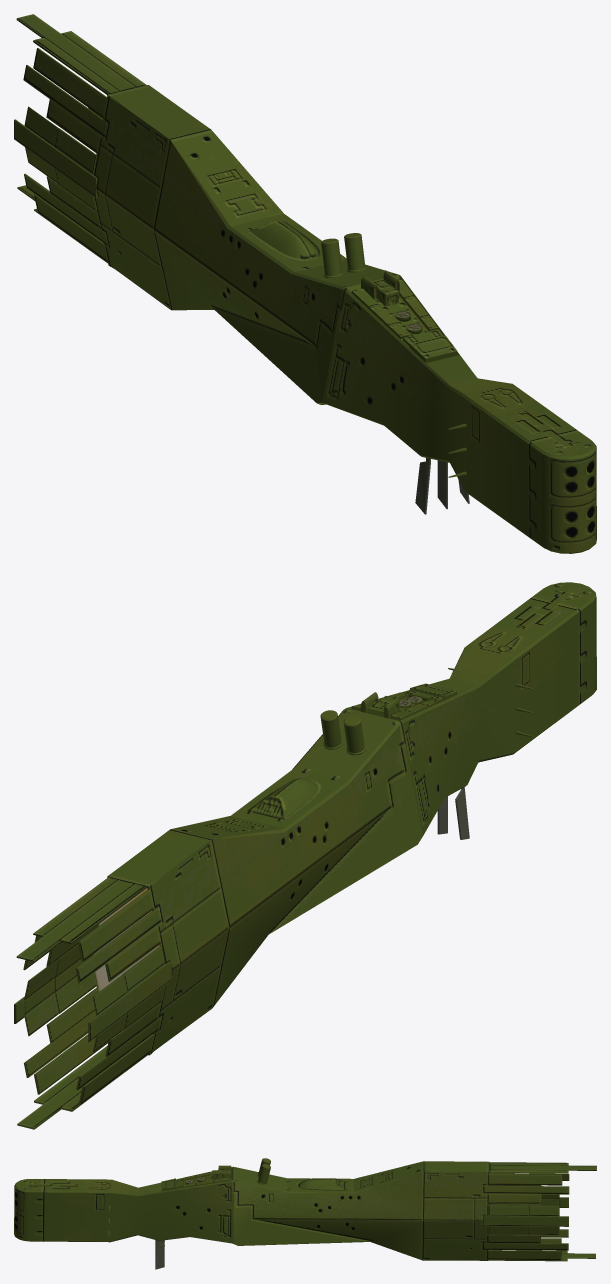
The model's file is fpa_battleship.obj.
The picture shows the model from 3 angles, top to bottom: view 1: azimuth 30°, elevation 25°; view 2: azimuth 150°, elevation 25°; view 3: azimuth 270°, elevation 25°; orthographic projection. The views are drawn at different scales.
Visible parts, largest first — view 1: fpa_battleship; view 2: fpa_battleship; view 3: fpa_battleship.
Part boxes in pixels (box(x1,y1,x2,y2)): fpa_battleship: box(14, 14, 596, 553); fpa_battleship: box(14, 582, 596, 1129); fpa_battleship: box(14, 1158, 596, 1269).
Bounding box in the file's own units: 32.62 × 60.21 × 312.
